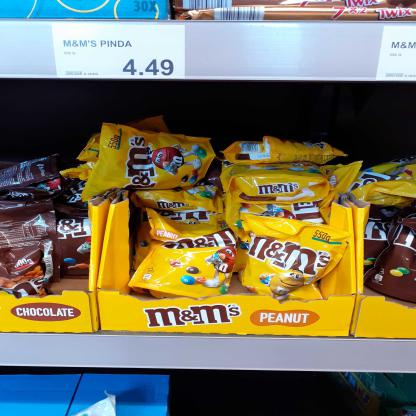prtg: (51, 24, 188, 82), (376, 27, 415, 82)
